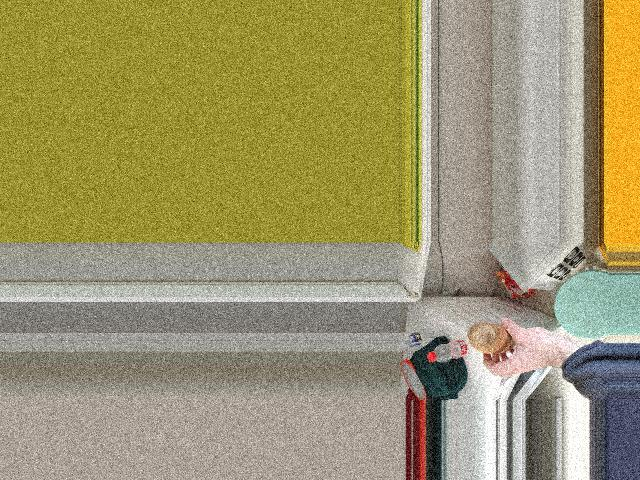sweet_potato: (464, 316, 518, 356)
